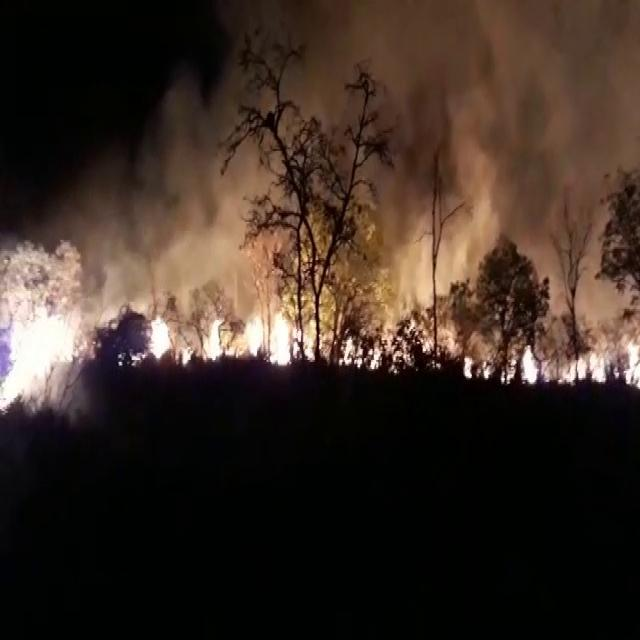Fire: (382, 3, 640, 176), (100, 162, 266, 311)
